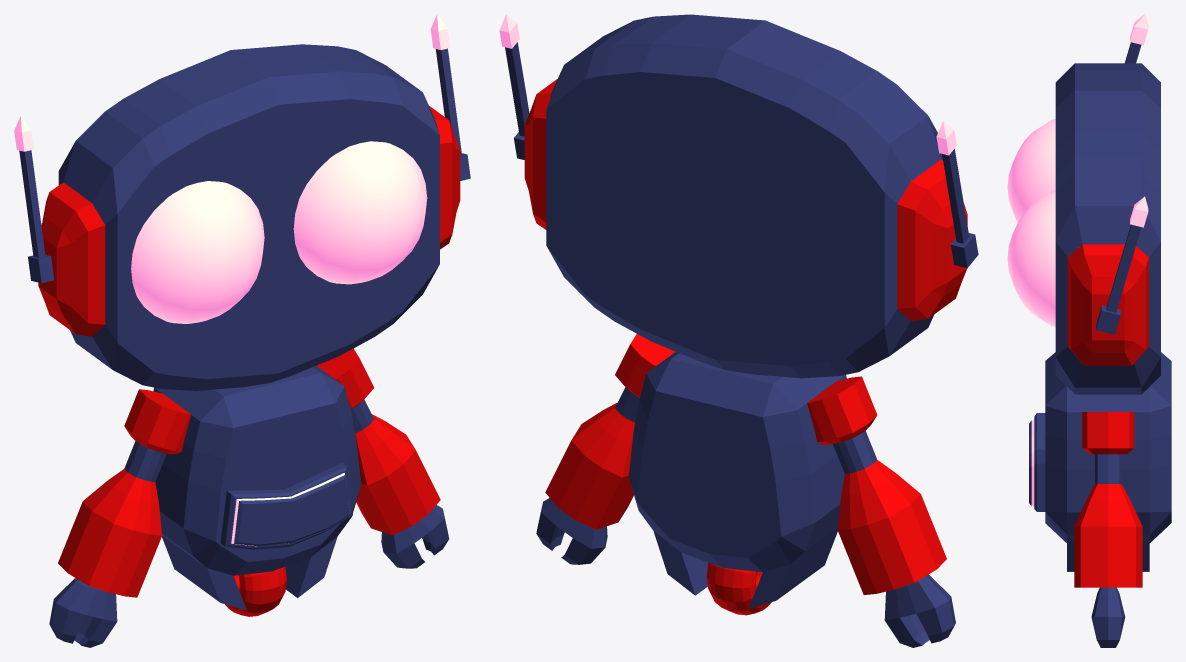
File: robot.glb
The picture shows the model from 3 angles, left to right: view 1: azimuth 30°, elevation 25°; view 2: azimuth 150°, elevation 25°; view 3: azimuth 270°, elevation 25°; orthographic projection. The views are drawn at different scales.
Visible parts, largest first — view 1: Cube002, Cube, Sphere, Cube001, Torus; view 2: Cube002, Cube, Cube001, Torus; view 3: Cube002, Cube, Cube001, Sphere.
Boxes of the visible parts, x1,y1,x2,y2 form: Cube002: (14,14,470,390); Cube: (153,365,361,610); Sphere: (131,141,427,323); Cube001: (49,348,449,647); Torus: (225,567,286,616); Cube002: (499,14,978,378); Cube: (628,352,846,608); Cube001: (536,334,955,647); Torus: (706,562,771,615); Cube002: (1055,14,1160,394); Cube: (1029,352,1171,571); Cube001: (1074,412,1142,647); Sphere: (1007,119,1055,327).
Size of the model in its own units: 2.11 by 2.58 by 0.7792.
